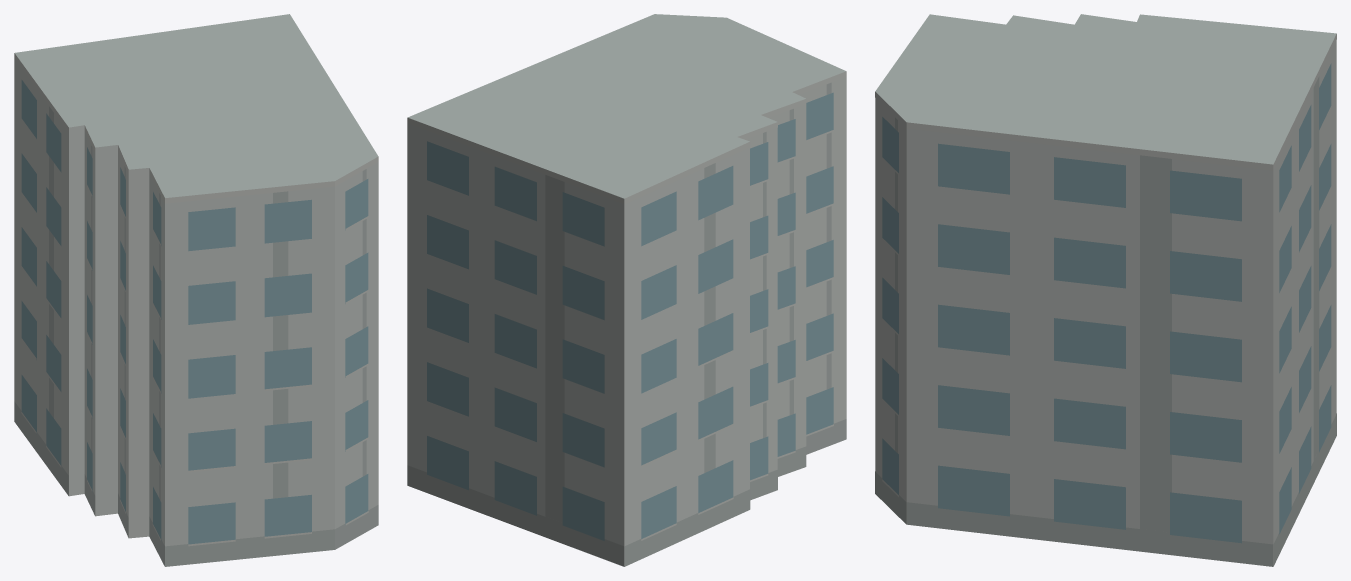
The model's file is survey-upis-32872661.glb.
3 renders of one model, left to right at view 1: azimuth 30°, elevation 25°; view 2: azimuth 150°, elevation 25°; view 3: azimuth 270°, elevation 25°, orthographic. The views are drawn at different scales.
Parts seen in each view (by area): view 1: survey-upis-32872661.tmp; view 2: survey-upis-32872661.tmp; view 3: survey-upis-32872661.tmp.
Boxes of the visible parts, box(x1,y1,x2,y2) form: survey-upis-32872661.tmp: box(14, 14, 378, 566); survey-upis-32872661.tmp: box(407, 14, 846, 566); survey-upis-32872661.tmp: box(875, 14, 1336, 566).
Bounding box in the file's own units: 12.99 × 16.18 × 16.83.
